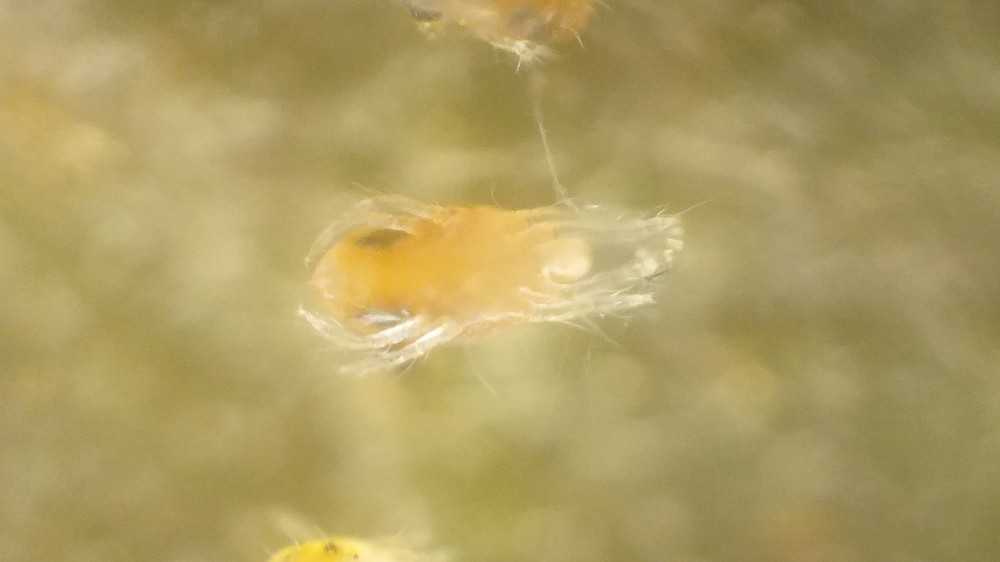Aracnido Rojo: (262, 166, 715, 377)
